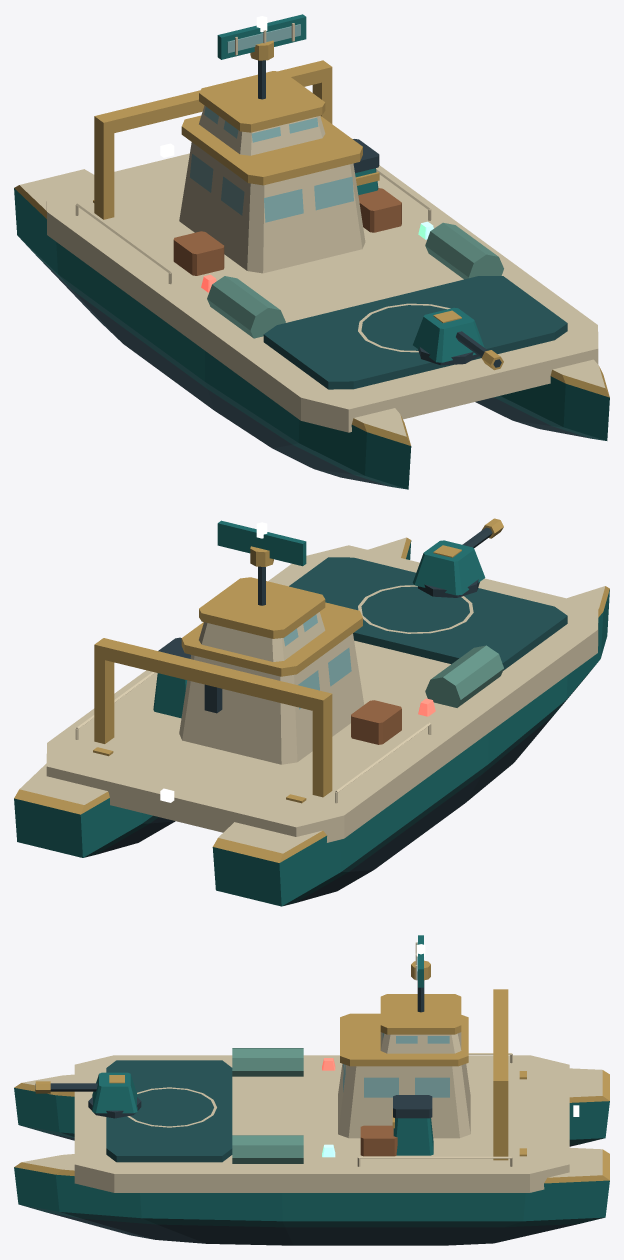
The model's file is base-ship-player.glb.
3 views of the same model, one above another, from view 1: azimuth 30°, elevation 25°; view 2: azimuth 150°, elevation 25°; view 3: azimuth 270°, elevation 25° (orthographic). The views are drawn at different scales.
Visible parts, largest first — view 1: hull, turret, radar, funnel, barrel; view 2: hull, turret, radar, funnel; view 3: hull, funnel, turret, barrel, radar.
Part boxes in pixels (<box>): hull: <box>14,60,609,489</box>; turret: <box>413,307,484,365</box>; radar: <box>217,14,306,60</box>; funnel: <box>353,139,379,195</box>; barrel: <box>456,331,503,370</box>; hull: <box>14,537,609,906</box>; turret: <box>412,540,485,597</box>; radar: <box>217,520,306,566</box>; funnel: <box>153,637,190,718</box>; hull: <box>14,980,609,1245</box>; funnel: <box>392,1095,433,1155</box>; turret: <box>88,1072,141,1118</box>; barrel: <box>35,1081,97,1093</box>; radar: <box>411,935,430,987</box>.
Size of the model in its own units: 3.35 by 3.28 by 7.11.
